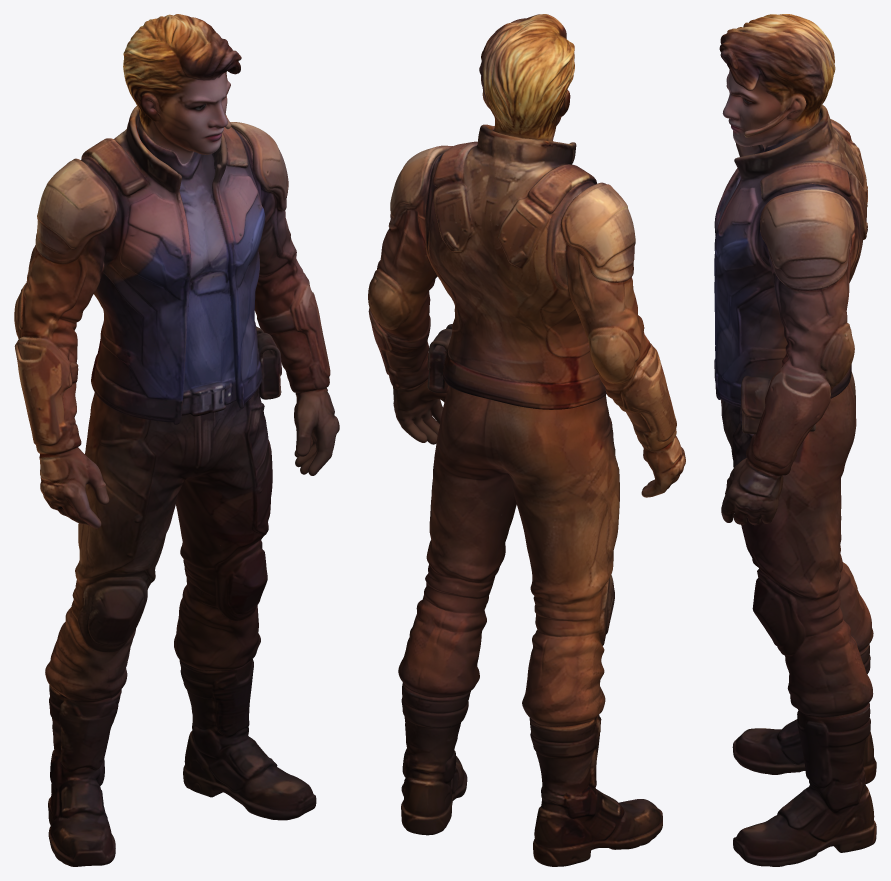
The model's file is Hero_Human_T1.glb.
The picture shows the model from 3 angles, left to right: view 1: azimuth 30°, elevation 25°; view 2: azimuth 150°, elevation 25°; view 3: azimuth 270°, elevation 25°; orthographic projection. The views are drawn at different scales.
Visible parts, largest first — view 1: tripo_node_d52b52a5-c8a2-419b-8dcc-3e5ed6d08fd1; view 2: tripo_node_d52b52a5-c8a2-419b-8dcc-3e5ed6d08fd1; view 3: tripo_node_d52b52a5-c8a2-419b-8dcc-3e5ed6d08fd1.
Boxes of the visible parts, x1,y1,x2,y2 form: tripo_node_d52b52a5-c8a2-419b-8dcc-3e5ed6d08fd1: (14, 14, 339, 866); tripo_node_d52b52a5-c8a2-419b-8dcc-3e5ed6d08fd1: (368, 14, 685, 866); tripo_node_d52b52a5-c8a2-419b-8dcc-3e5ed6d08fd1: (714, 14, 876, 866).
Bounding box in the file's own units: 0.3762 × 1 × 0.1858.
1 material, 1 textured.
